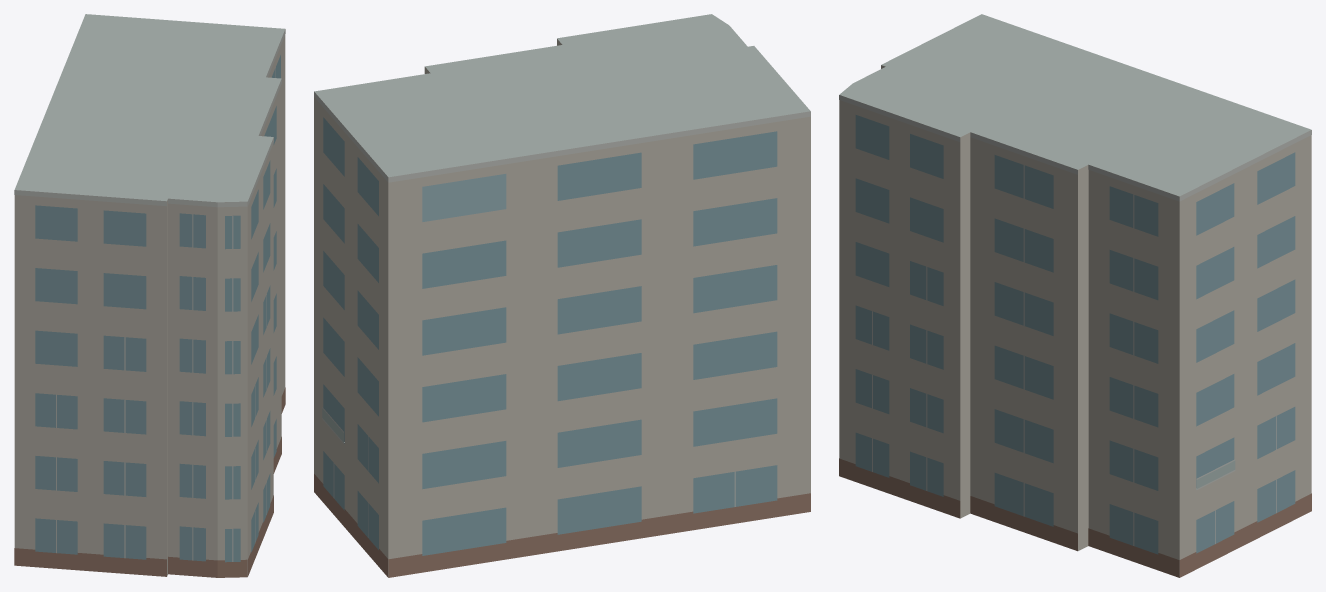
File: survey-upis-32926042.glb
3 views of the same model, side by side, from view 1: azimuth 30°, elevation 25°; view 2: azimuth 150°, elevation 25°; view 3: azimuth 270°, elevation 25° (orthographic). The views are drawn at different scales.
Parts seen in each view (by area): view 1: survey-upis-32926042.tmp; view 2: survey-upis-32926042.tmp; view 3: survey-upis-32926042.tmp.
Part boxes in pixels (x1,y1,x2,y2): survey-upis-32926042.tmp: [14, 14, 285, 577]; survey-upis-32926042.tmp: [314, 14, 810, 577]; survey-upis-32926042.tmp: [839, 14, 1311, 577].
Size of the model in its own units: 18.79 by 18.3 by 20.56.
